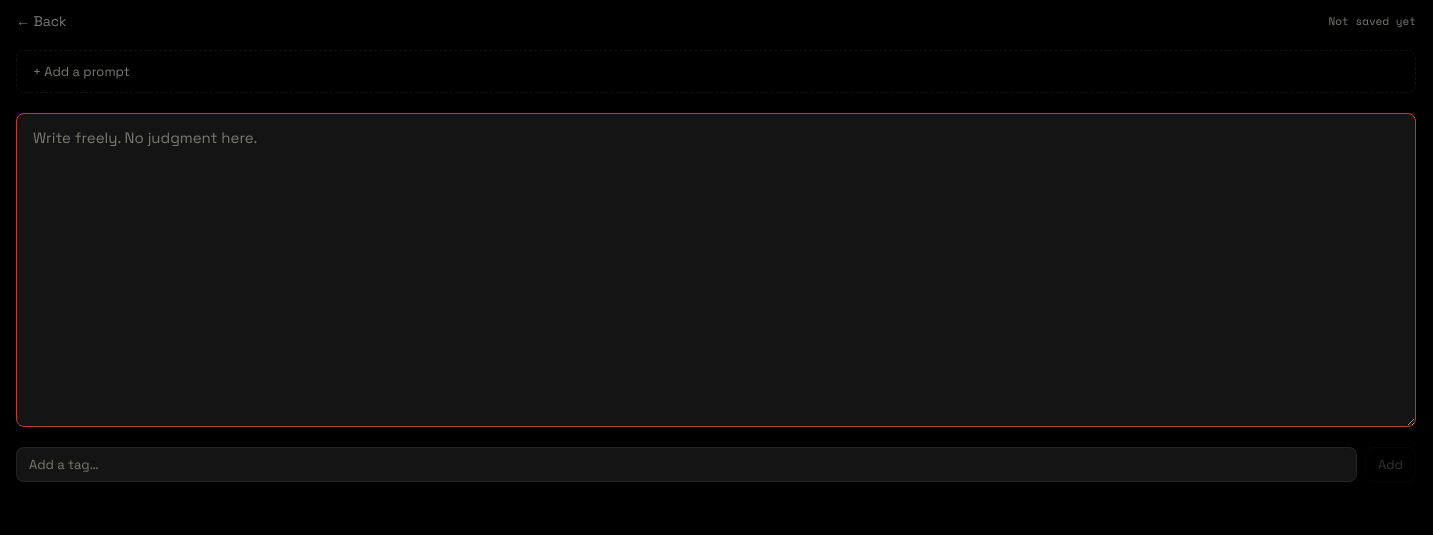
JournalEntry — new entry mode › normalises tag to lowercase with hyphens
Type "Inner Child" into the field named "tag input".
click(687, 464); type("Inner Child")  # box [16,447,1357,482]
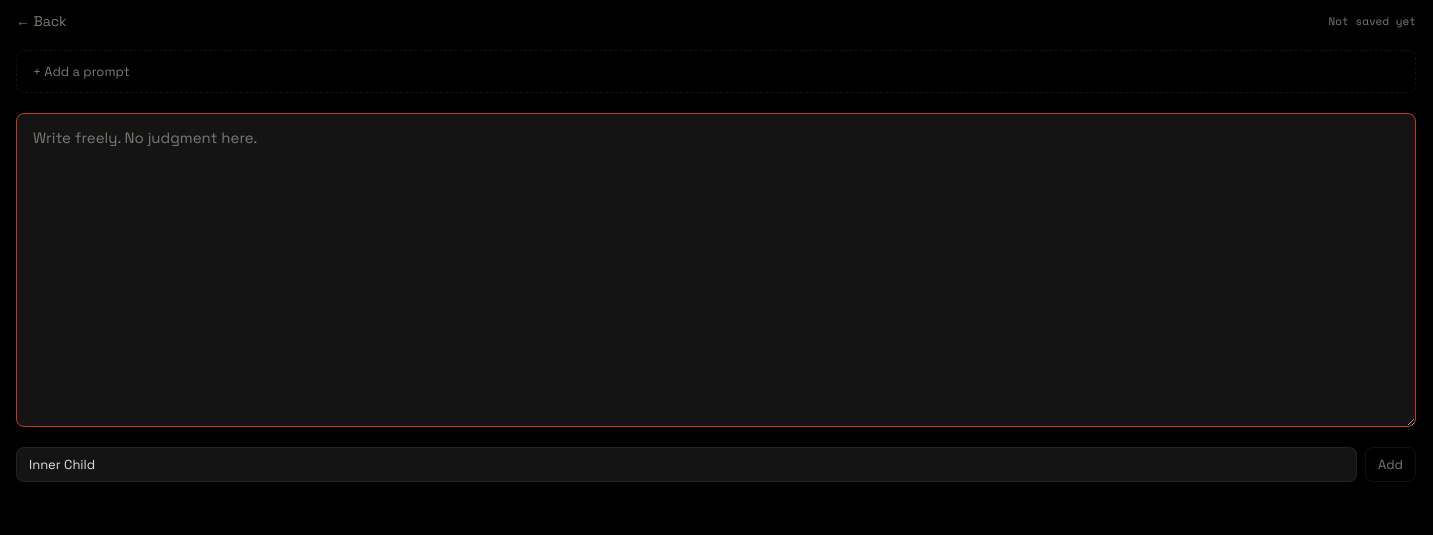
Click the button with aria-label "add tag".
click(1391, 464)  # box [1365,447,1416,482]
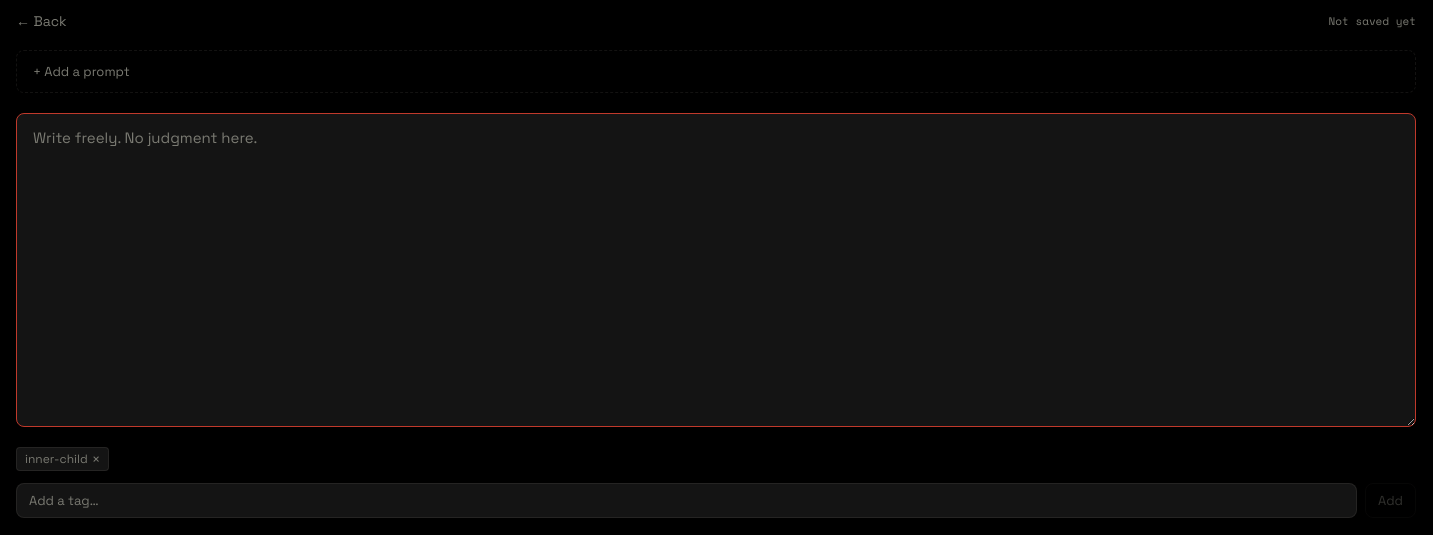
Expected: the text "inner-child" is shown, [25,451,88,467]
